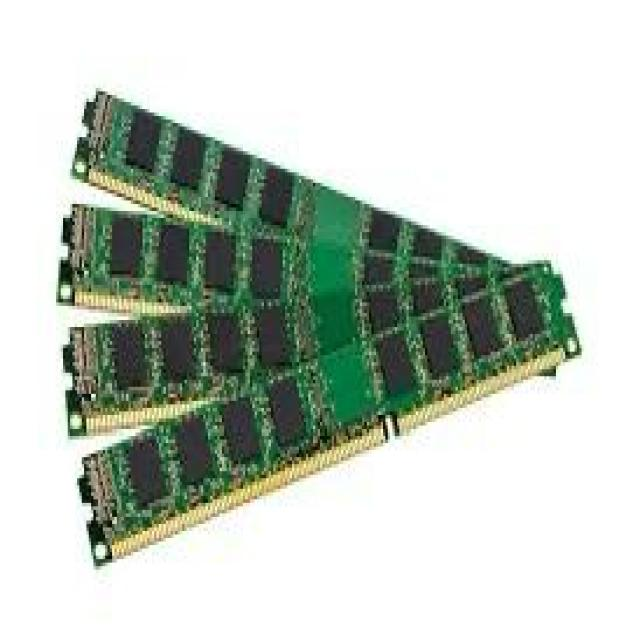Ram: (72, 77, 596, 594)
